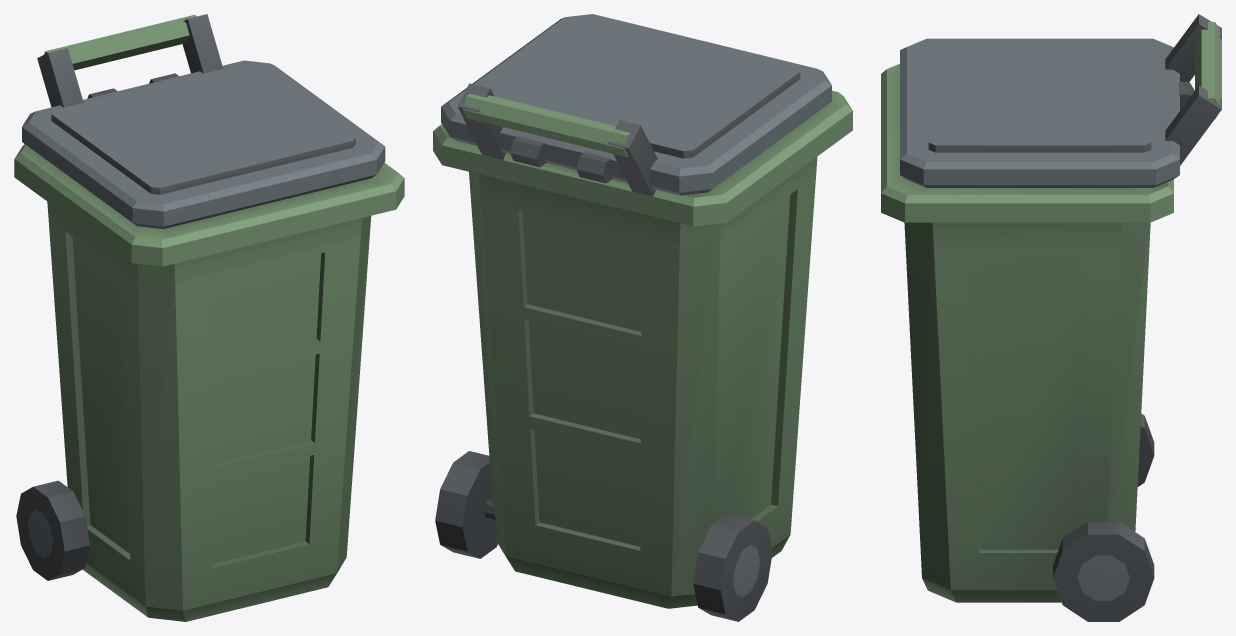
The model's file is wheelie.glb.
The picture shows the model from 3 angles, left to right: view 1: azimuth 30°, elevation 25°; view 2: azimuth 150°, elevation 25°; view 3: azimuth 270°, elevation 25°; orthographic projection. The views are drawn at different scales.
Visible parts, largest first — view 1: wheelie; view 2: wheelie; view 3: wheelie.
Part boxes in pixels (x1,y1,x2,y2): wheelie: (14, 14, 404, 621); wheelie: (433, 14, 852, 621); wheelie: (881, 14, 1221, 621).
Size of the model in its own units: 0.665 by 1.11 by 0.6863.
